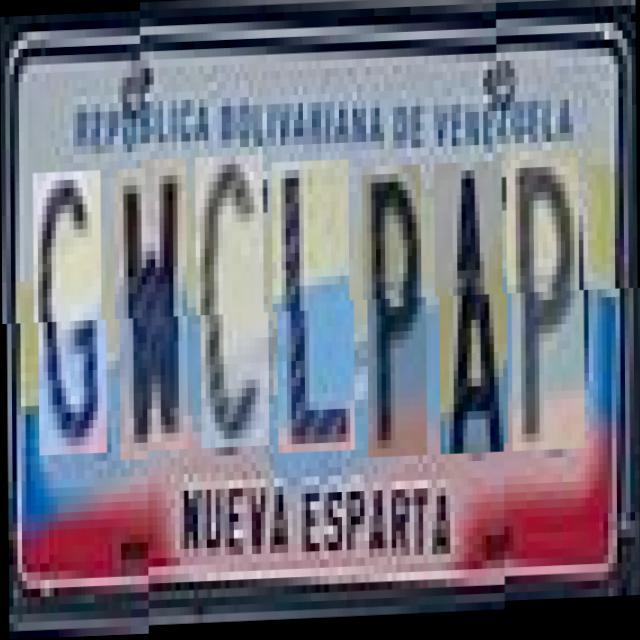A: (438, 165, 508, 458)
C: (200, 157, 268, 450)
G: (38, 162, 106, 448)
L: (276, 162, 354, 456)
P: (510, 162, 584, 464), (366, 168, 426, 461)
W: (118, 159, 192, 453)
